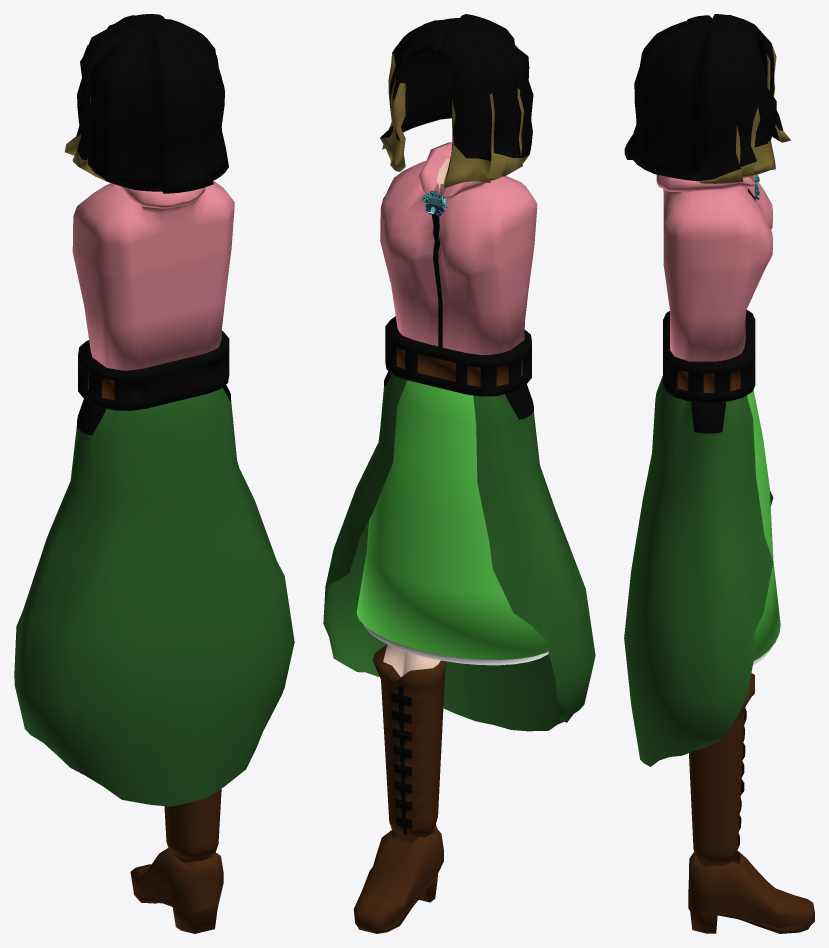
Rendered from MariParts.fbx.
3 views of the same model, side by side, from view 1: azimuth 30°, elevation 25°; view 2: azimuth 150°, elevation 25°; view 3: azimuth 270°, elevation 25° (orthographic). The views are drawn at different scales.
Visible parts, largest first — view 1: Skirt.001, Torso_Mari, MariHair, Belt, BootLeft.005, LeftSubLeg.005; view 2: Skirt.001, Skirt, Torso_Mari, MariHair, LeftSubLeg.005, Belt, BootLeft.005; view 3: Skirt.001, MariHair, Torso_Mari, BootLeft.005, LeftSubLeg.005, Belt, Skirt.
Boxes of the visible parts, box(x1,y1,x2,y2) form: Skirt.001: box(14, 384, 294, 806); Torso_Mari: box(72, 181, 234, 370); MariHair: box(65, 14, 228, 193); Belt: box(78, 330, 229, 410); BootLeft.005: box(130, 848, 223, 933); LeftSubLeg.005: box(164, 789, 221, 859); Skirt.001: box(323, 371, 595, 731); Skirt: box(356, 380, 548, 665); Torso_Mari: box(380, 142, 537, 355); MariHair: box(380, 14, 533, 187); LeftSubLeg.005: box(372, 644, 446, 836); Belt: box(385, 316, 531, 396); BootLeft.005: box(353, 825, 443, 933); Skirt.001: box(624, 376, 773, 766); MariHair: box(624, 14, 790, 183); Torso_Mari: box(656, 174, 772, 361); BootLeft.005: box(688, 851, 814, 933); LeftSubLeg.005: box(689, 673, 754, 862); Belt: box(663, 310, 755, 402); Skirt: box(747, 390, 780, 665).
Size of the model in its own units: 55.25 by 181 by 35.46.
